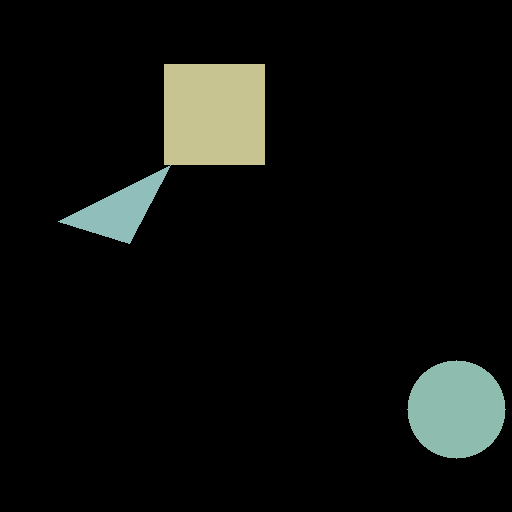circle: (58, 64, 264, 243), (407, 360, 505, 458)
